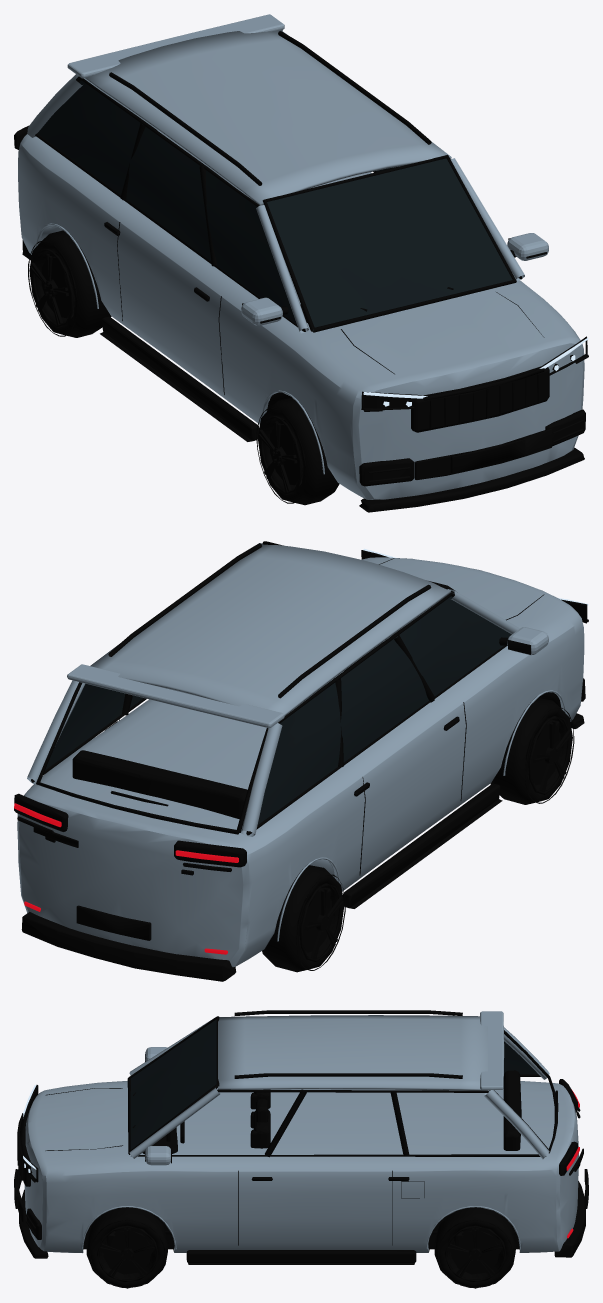
File: avanza-mid.glb
3 renders of one model, top to bottom at view 1: azimuth 30°, elevation 25°; view 2: azimuth 150°, elevation 25°; view 3: azimuth 270°, elevation 25°, orthographic. The views are drawn at different scales.
Visible parts, largest first — view 1: chassis.001__Automotive clearcoat, chassis.001__Solar glass, chassis.001__Vehicle detail atlas, wheel_RL.001__Vehicle detail atlas, wheel_FL.001__Vehicle detail atlas; view 2: chassis.001__Automotive clearcoat, chassis.001__Vehicle detail atlas, chassis.001__Solar glass, wheel_FL.001__Vehicle detail atlas, wheel_RL.001__Vehicle detail atlas, chassis.001__Red LED optics; view 3: chassis.001__Automotive clearcoat, chassis.001__Vehicle detail atlas, chassis.001__Solar glass, wheel_FR.001__Vehicle detail atlas, wheel_RR.001__Vehicle detail atlas.
Part boxes in pixels (x1=…): chassis.001__Automotive clearcoat: x1=18, y1=14, x2=584, y2=499; chassis.001__Solar glass: x1=37, y1=80, x2=512, y2=330; chassis.001__Vehicle detail atlas: x1=14, y1=31, x2=587, y2=512; wheel_RL.001__Vehicle detail atlas: x1=28, y1=230, x2=111, y2=337; wheel_FL.001__Vehicle detail atlas: x1=256, y1=397, x2=339, y2=505; chassis.001__Automotive clearcoat: x1=17, y1=543, x2=584, y2=967; chassis.001__Vehicle detail atlas: x1=14, y1=541, x2=587, y2=981; chassis.001__Solar glass: x1=45, y1=596, x2=511, y2=833; wheel_FL.001__Vehicle detail atlas: x1=490, y1=698, x2=574, y2=804; wheel_RL.001__Vehicle detail atlas: x1=262, y1=865, x2=345, y2=972; chassis.001__Red LED optics: x1=14, y1=803, x2=238, y2=954; chassis.001__Automotive clearcoat: x1=24, y1=1011, x2=578, y2=1253; chassis.001__Vehicle detail atlas: x1=14, y1=1010, x2=588, y2=1264; chassis.001__Solar glass: x1=130, y1=1019, x2=537, y2=1149; wheel_FR.001__Vehicle detail atlas: x1=86, y1=1207, x2=168, y2=1288; wheel_RR.001__Vehicle detail atlas: x1=434, y1=1207, x2=516, y2=1288.
Size of the model in its own units: 2.05 by 1.74 by 4.55.
8 materials, 6 textured.
